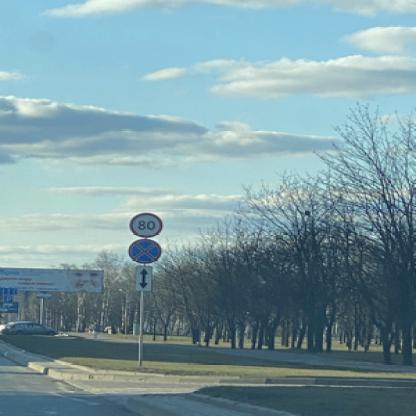speedlimit: (127, 211, 161, 236)
